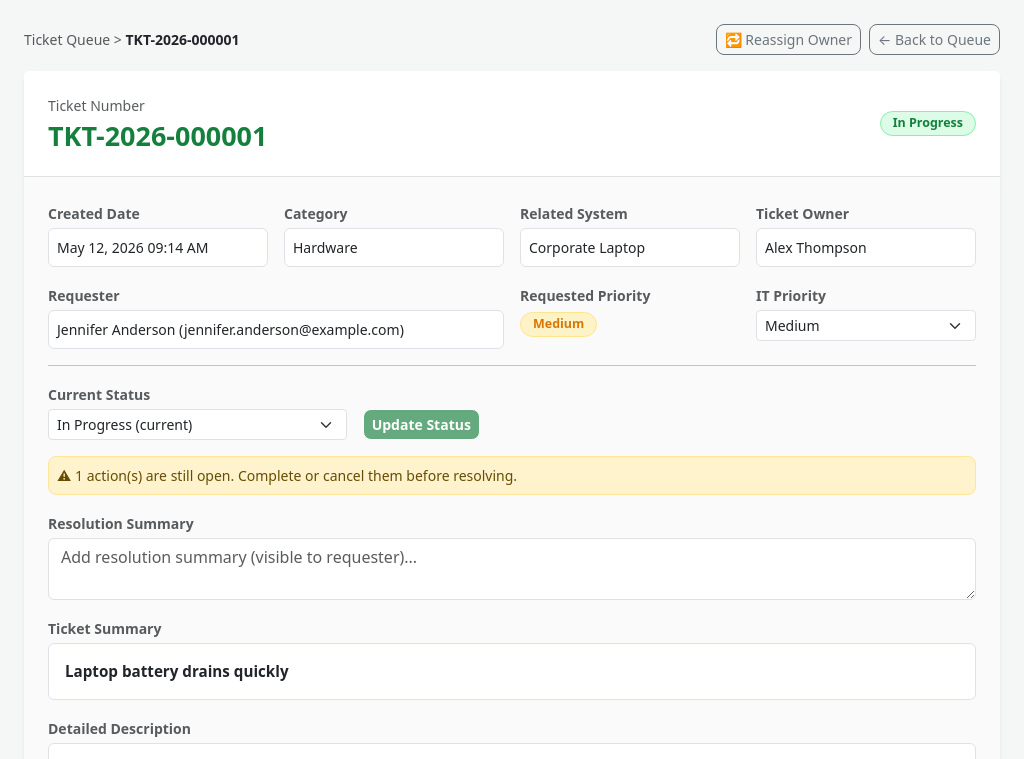
Scenario: Lab 4 Ticket workflow UI › UI-06 (gate): sends expectedVersion and lists the reasons when the gate refuses
Select "Resolved" in the dropdown labelled "Current Status". click: x=197, y=425
box: [48,409,347,440]
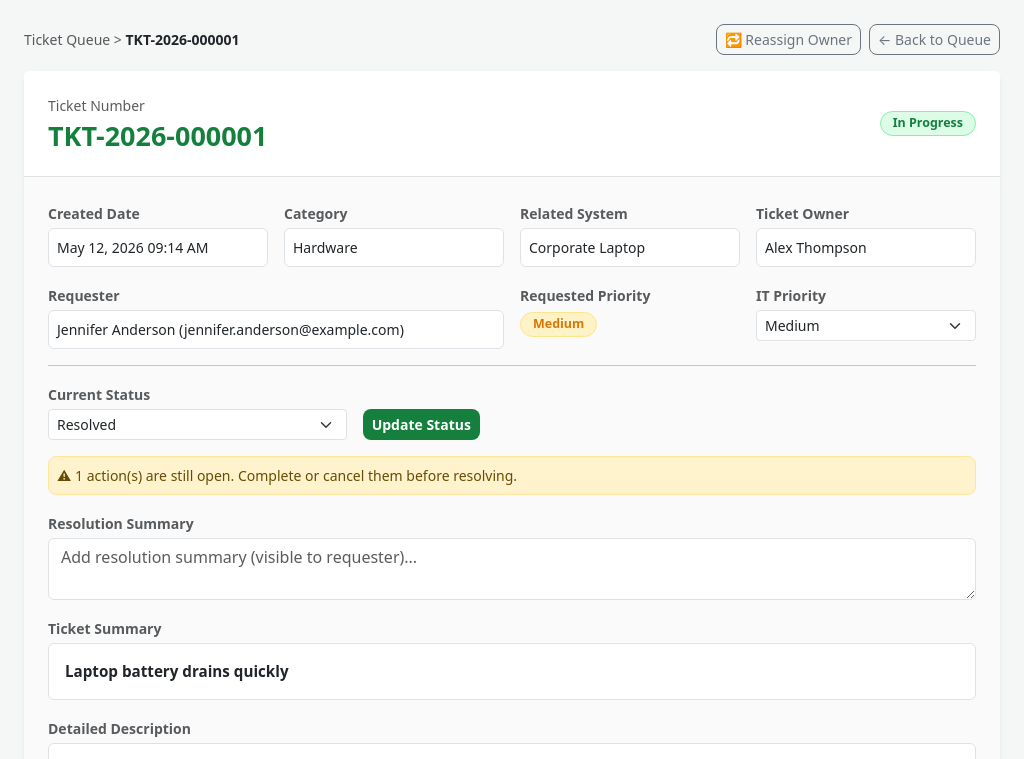
Click the button "Update Status". click: x=421, y=425
box: [363,409,480,440]
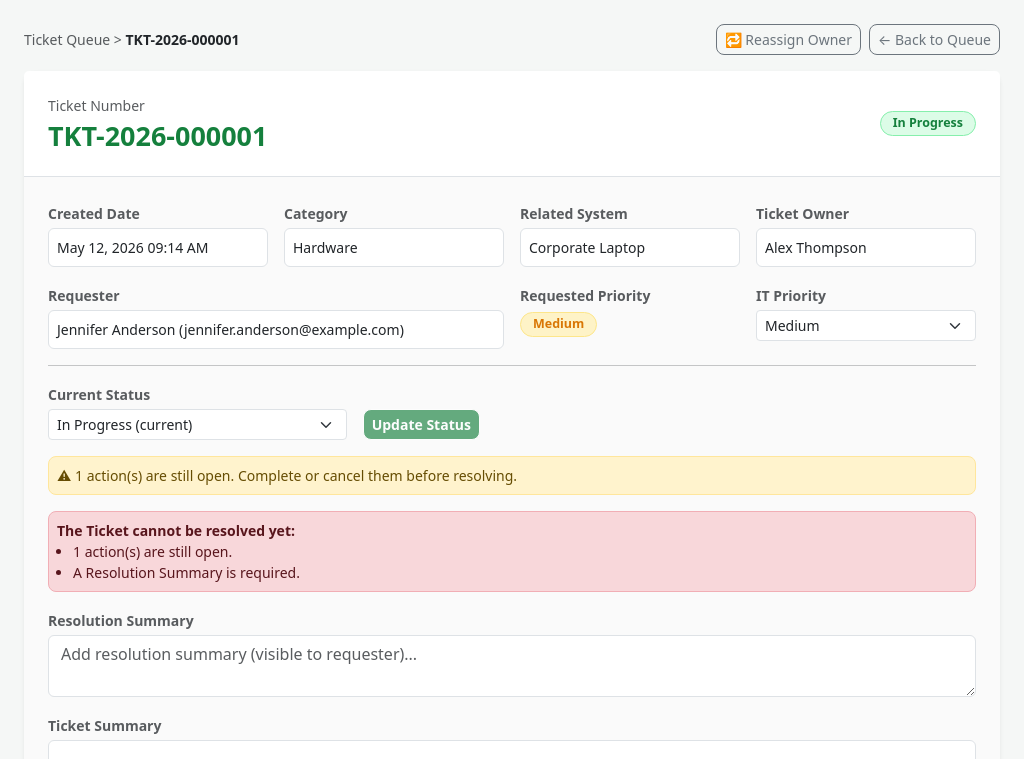
expect the list item "1 action(s) are still open." is shown: met, box [73,542,232,561]
expect the list item "A Resolution Summary is required." is shown: met, box [73,563,300,582]
